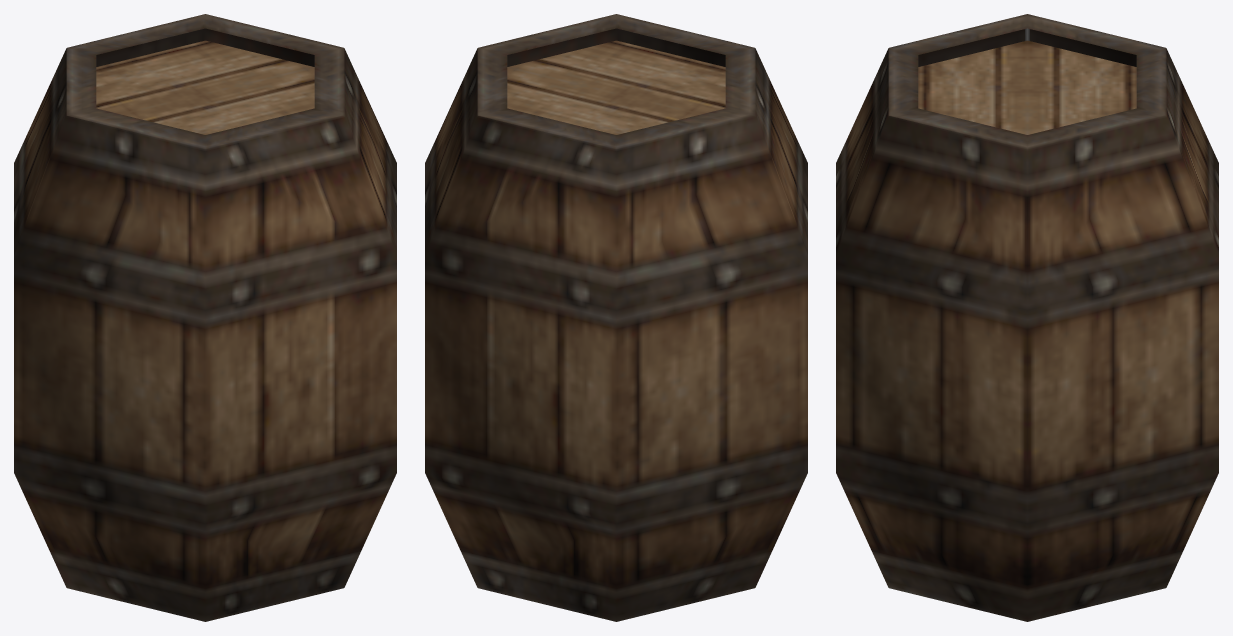
Rendered from SC_yonghengsenlin_13.FBX.
3 views of the same model, side by side, from view 1: azimuth 30°, elevation 25°; view 2: azimuth 150°, elevation 25°; view 3: azimuth 270°, elevation 25° (orthographic).
Parts seen in each view (by area): view 1: SC_yonghengsenlin_13; view 2: SC_yonghengsenlin_13; view 3: SC_yonghengsenlin_13.
Part boxes in pixels (box(x1,y1,x2,y2)): SC_yonghengsenlin_13: box(14, 14, 396, 621); SC_yonghengsenlin_13: box(425, 14, 807, 621); SC_yonghengsenlin_13: box(836, 14, 1218, 621).
Bounding box in the file's own units: 71.89 × 84.8 × 62.26.
